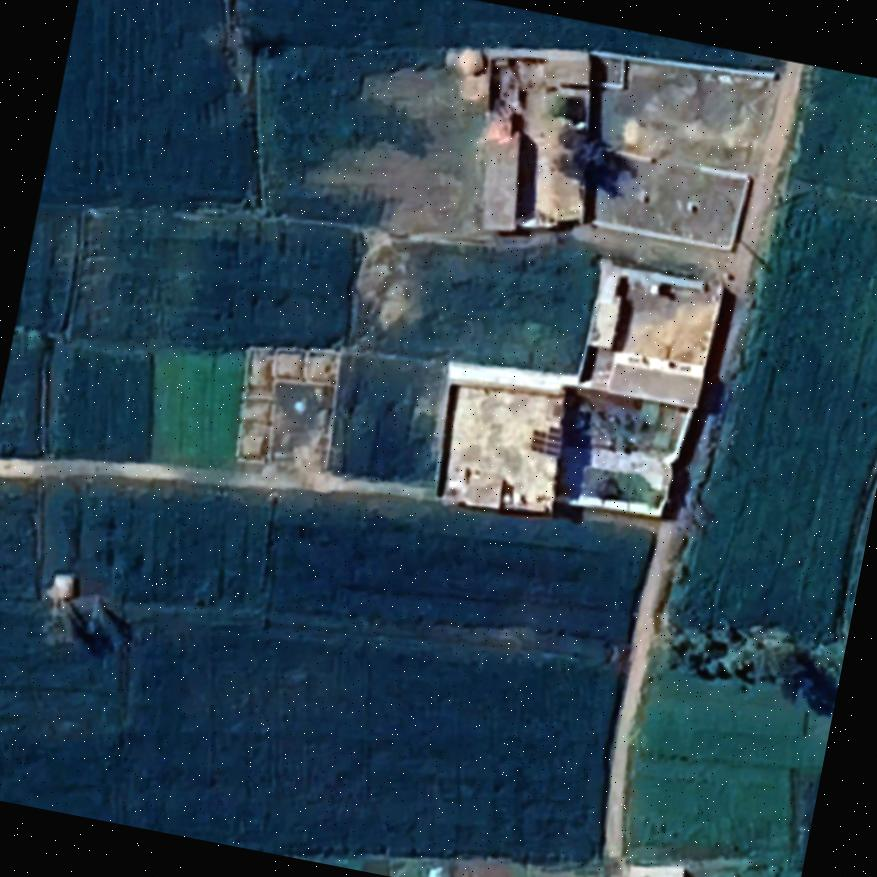Solarpanel: (525, 421, 568, 460)
